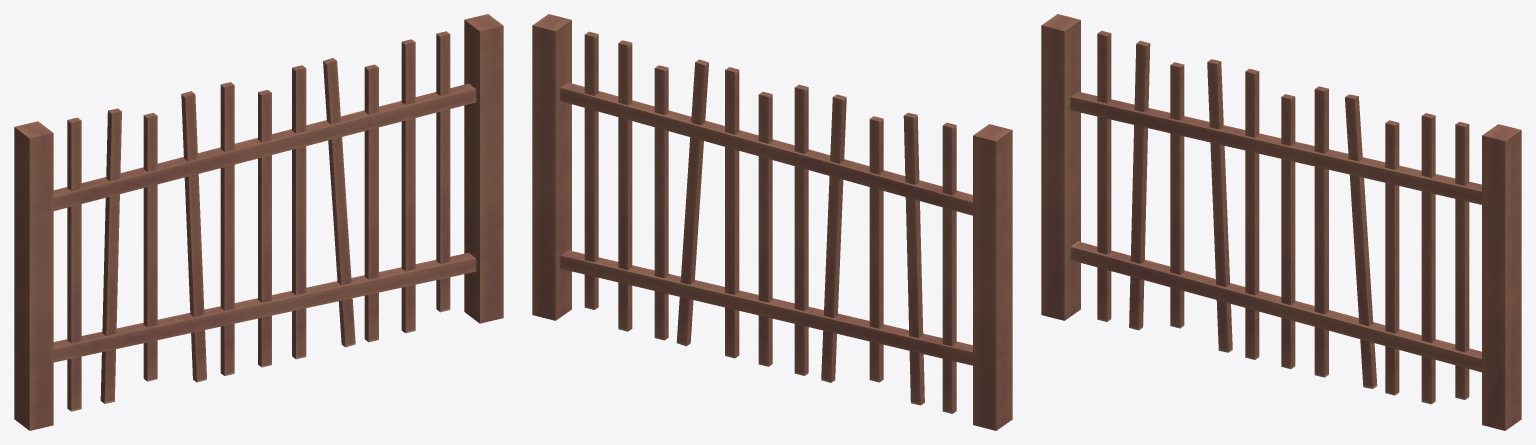
File: mt_dj_shanlan_01.fbx
3 renders of one model, left to right at view 1: azimuth 30°, elevation 25°; view 2: azimuth 150°, elevation 25°; view 3: azimuth 330°, elevation 25°, orthographic.
Visible parts, largest first — view 1: mt_dj_shanlan_01; view 2: mt_dj_shanlan_01; view 3: mt_dj_shanlan_01.
Part boxes in pixels (left/top/right/bottom): mt_dj_shanlan_01: left=14, top=14, right=503, bottom=430; mt_dj_shanlan_01: left=532, top=14, right=1012, bottom=430; mt_dj_shanlan_01: left=1041, top=14, right=1521, bottom=430.
Bounding box in the file's own units: 157 × 10.87 × 93.28.
